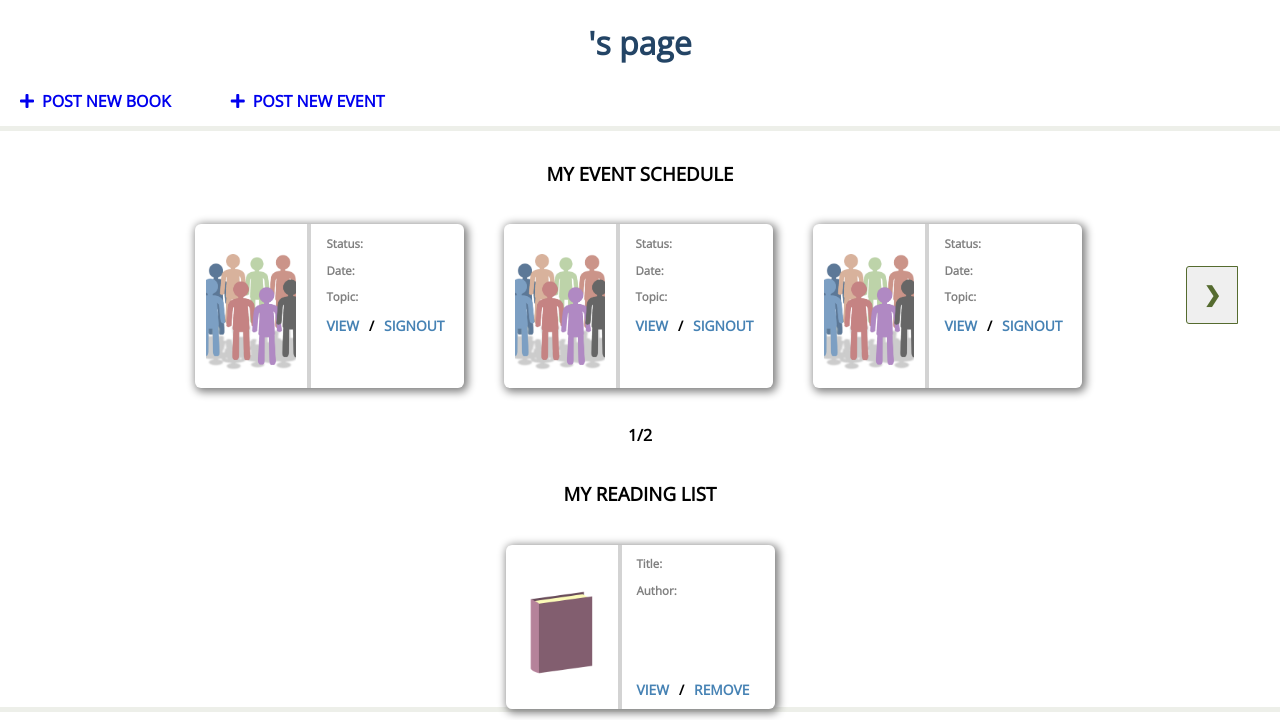
MyPage component › render next page of events list by clicking increase button
Check: the heading "'s page" is shown, box [588,21,692,64]
Click the button with class "next" at [1212, 296], box [1186,266,1238,324]
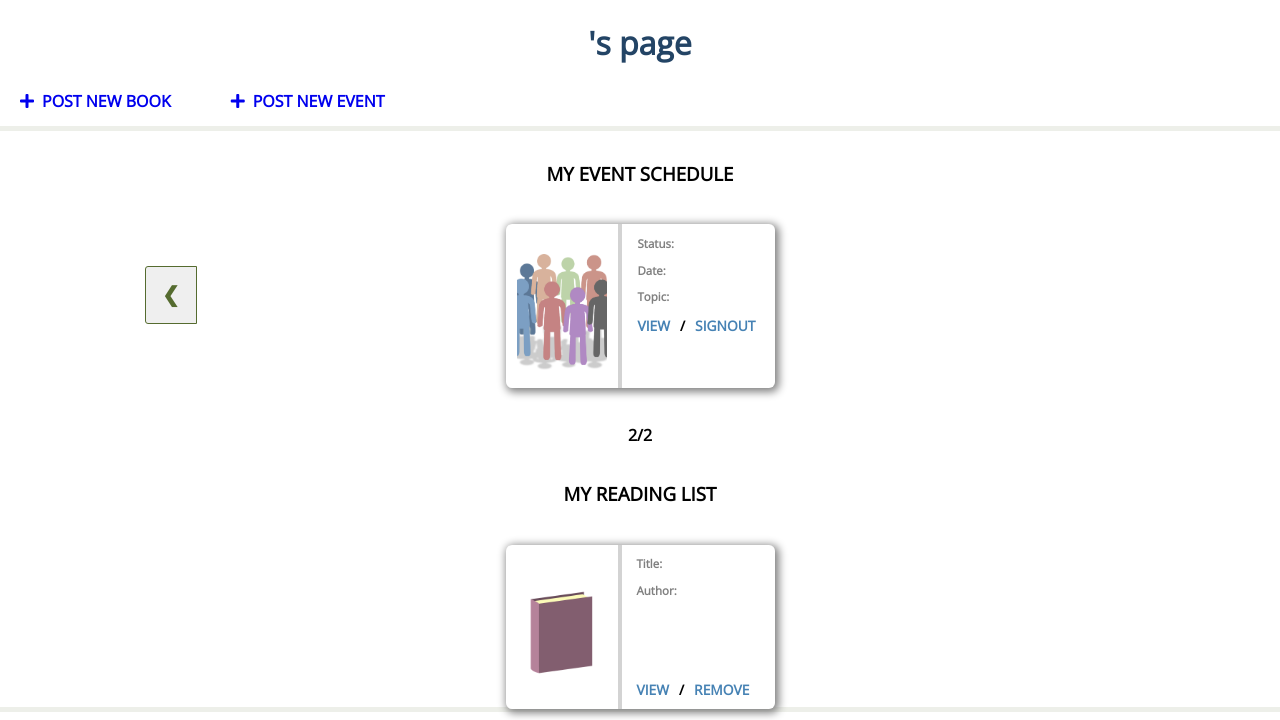
Check: the text "2/2" is shown, box [628,424,652,446]
